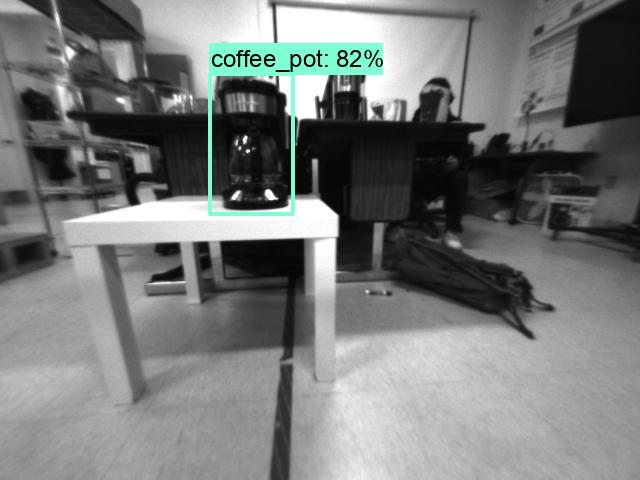coffee_pot: (208, 75, 297, 211)
